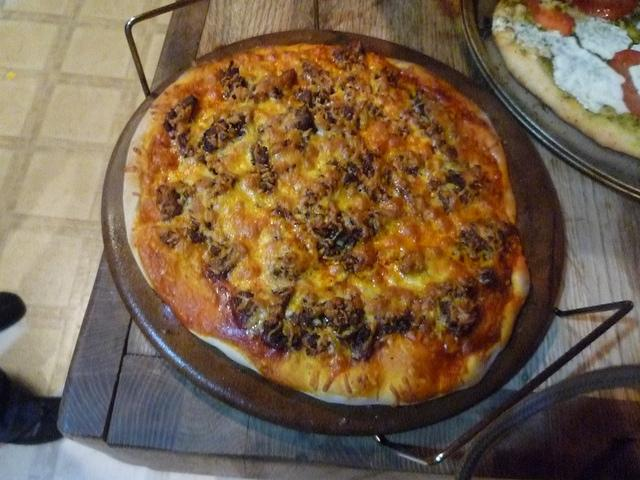tomato: (609, 50, 640, 118), (528, 4, 574, 35), (573, 0, 639, 20)
